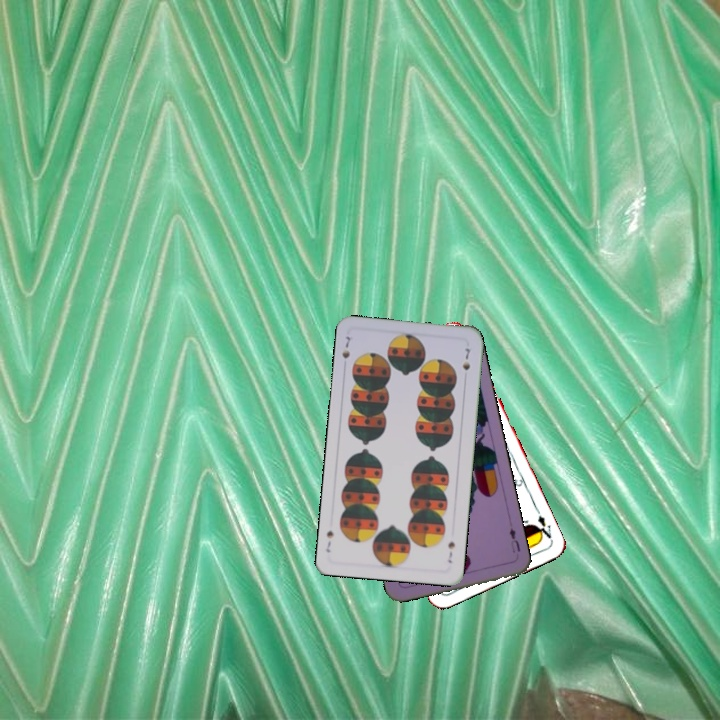EA: (531, 511, 554, 543)
EU: (505, 524, 523, 555)
S7: (338, 332, 353, 361), (444, 537, 458, 565)
